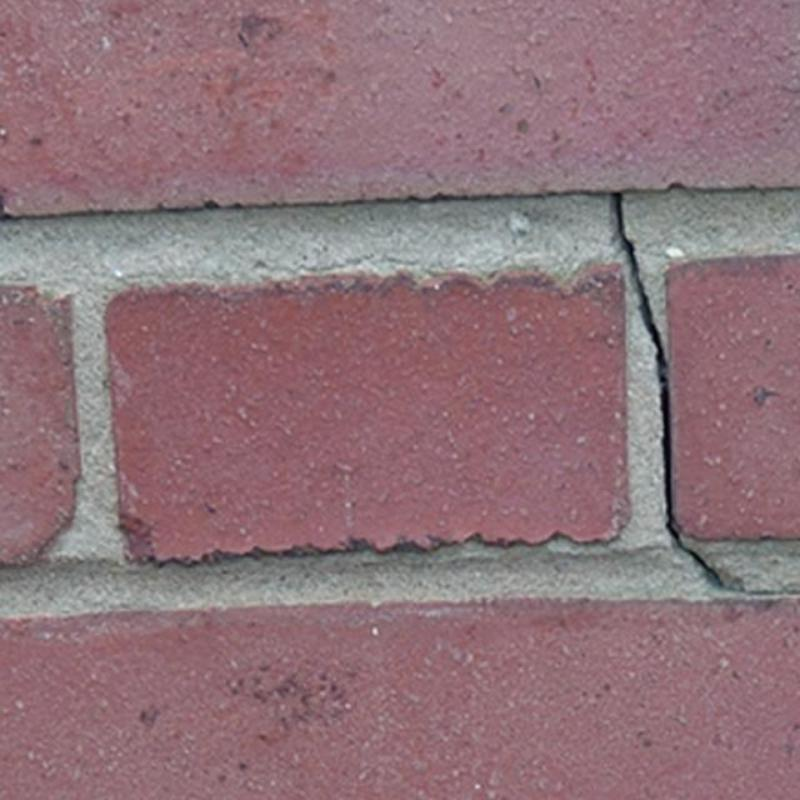pothole: (615, 194, 722, 584)
